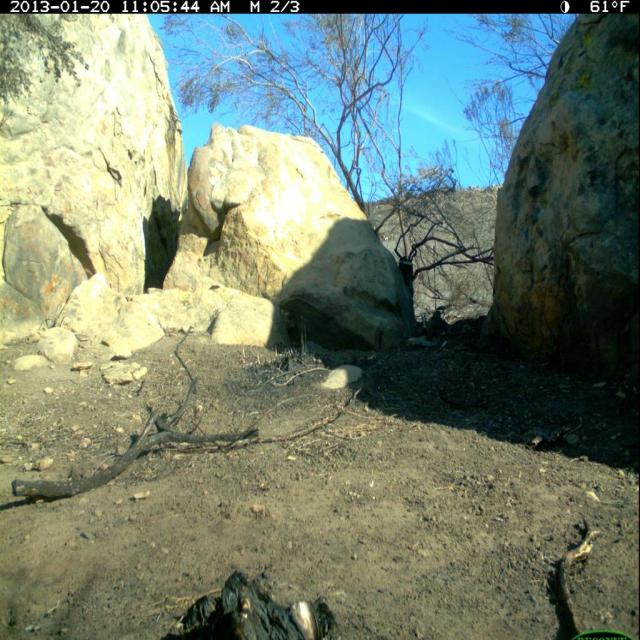bird: (425, 310, 445, 344)
